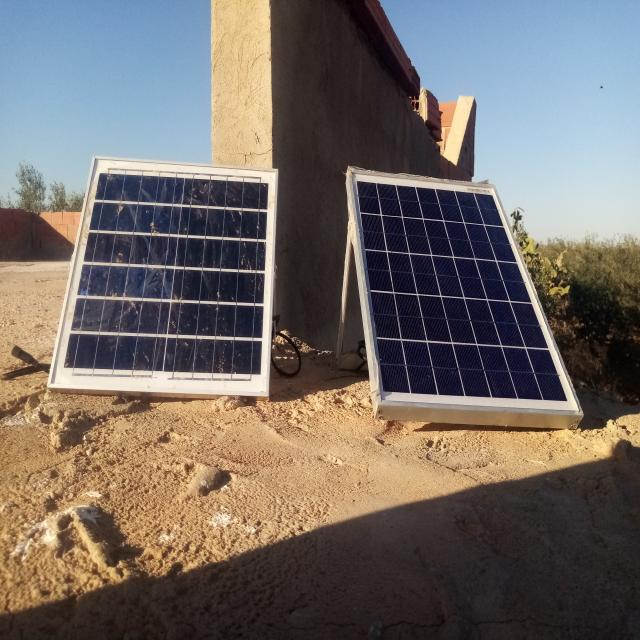faulty: (47, 158, 276, 396)
no faulty: (349, 170, 583, 413)
